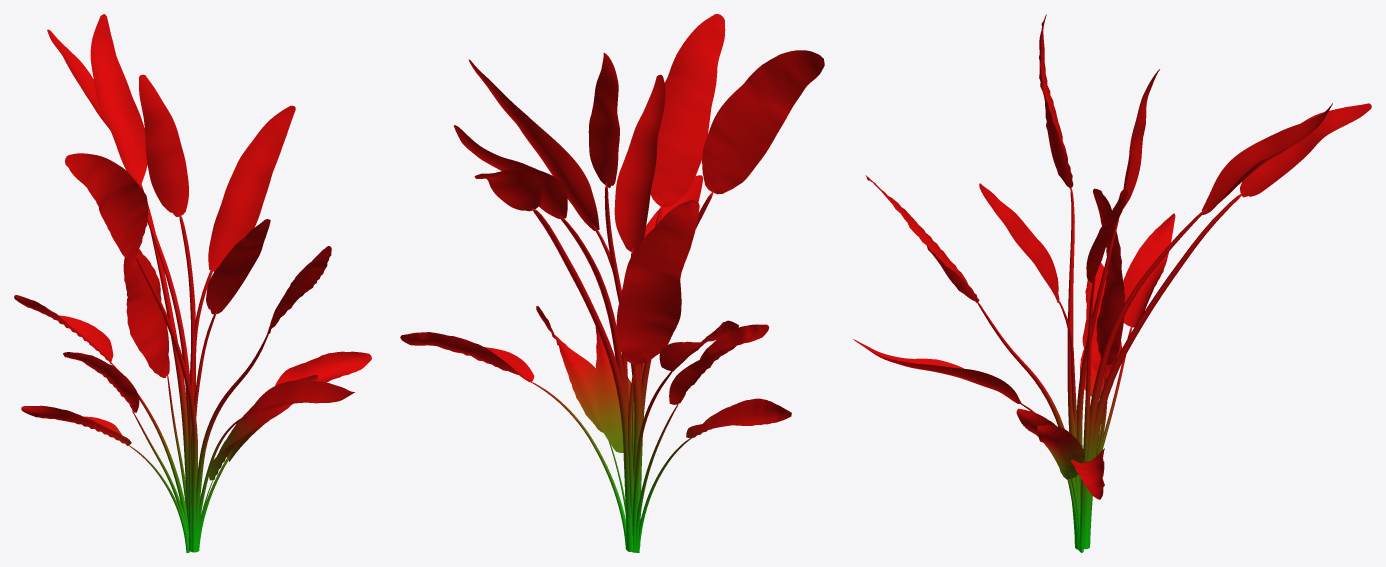
File: Bird Of Paradise_LOD1_Var12_wfypeifha.fbx
3 views of the same model, side by side, from view 1: azimuth 30°, elevation 25°; view 2: azimuth 150°, elevation 25°; view 3: azimuth 270°, elevation 25° (orthographic). The views are drawn at different scales.
Parts seen in each view (by area): view 1: _wftx_Var12_LOD1; view 2: _wftx_Var12_LOD1; view 3: _wftx_Var12_LOD1.
Part boxes in pixels (<box>): _wftx_Var12_LOD1: <box>14,14,371,552</box>; _wftx_Var12_LOD1: <box>400,14,824,552</box>; _wftx_Var12_LOD1: <box>853,14,1371,552</box>.
Bounding box in the file's own units: 126 × 160 × 159.
